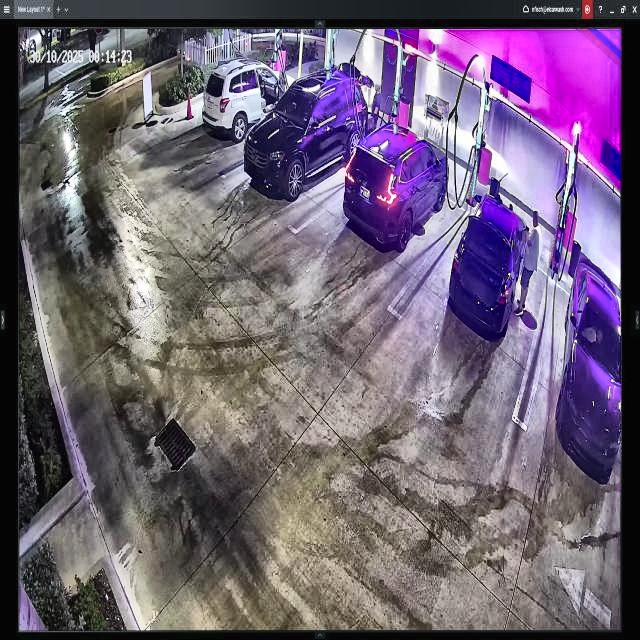Car: (245, 69, 368, 191), (346, 124, 448, 250), (449, 199, 528, 340)
